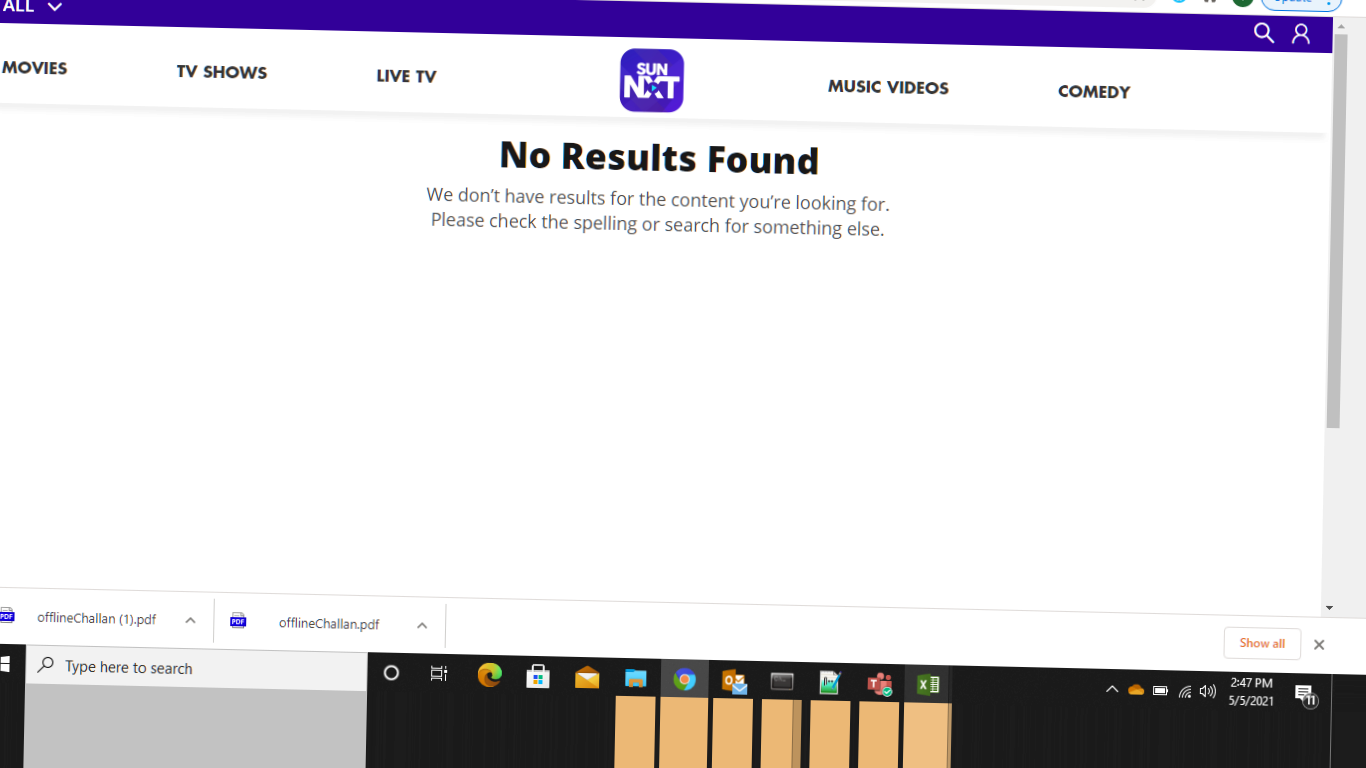noresultsfound: (401, 130, 900, 272)
